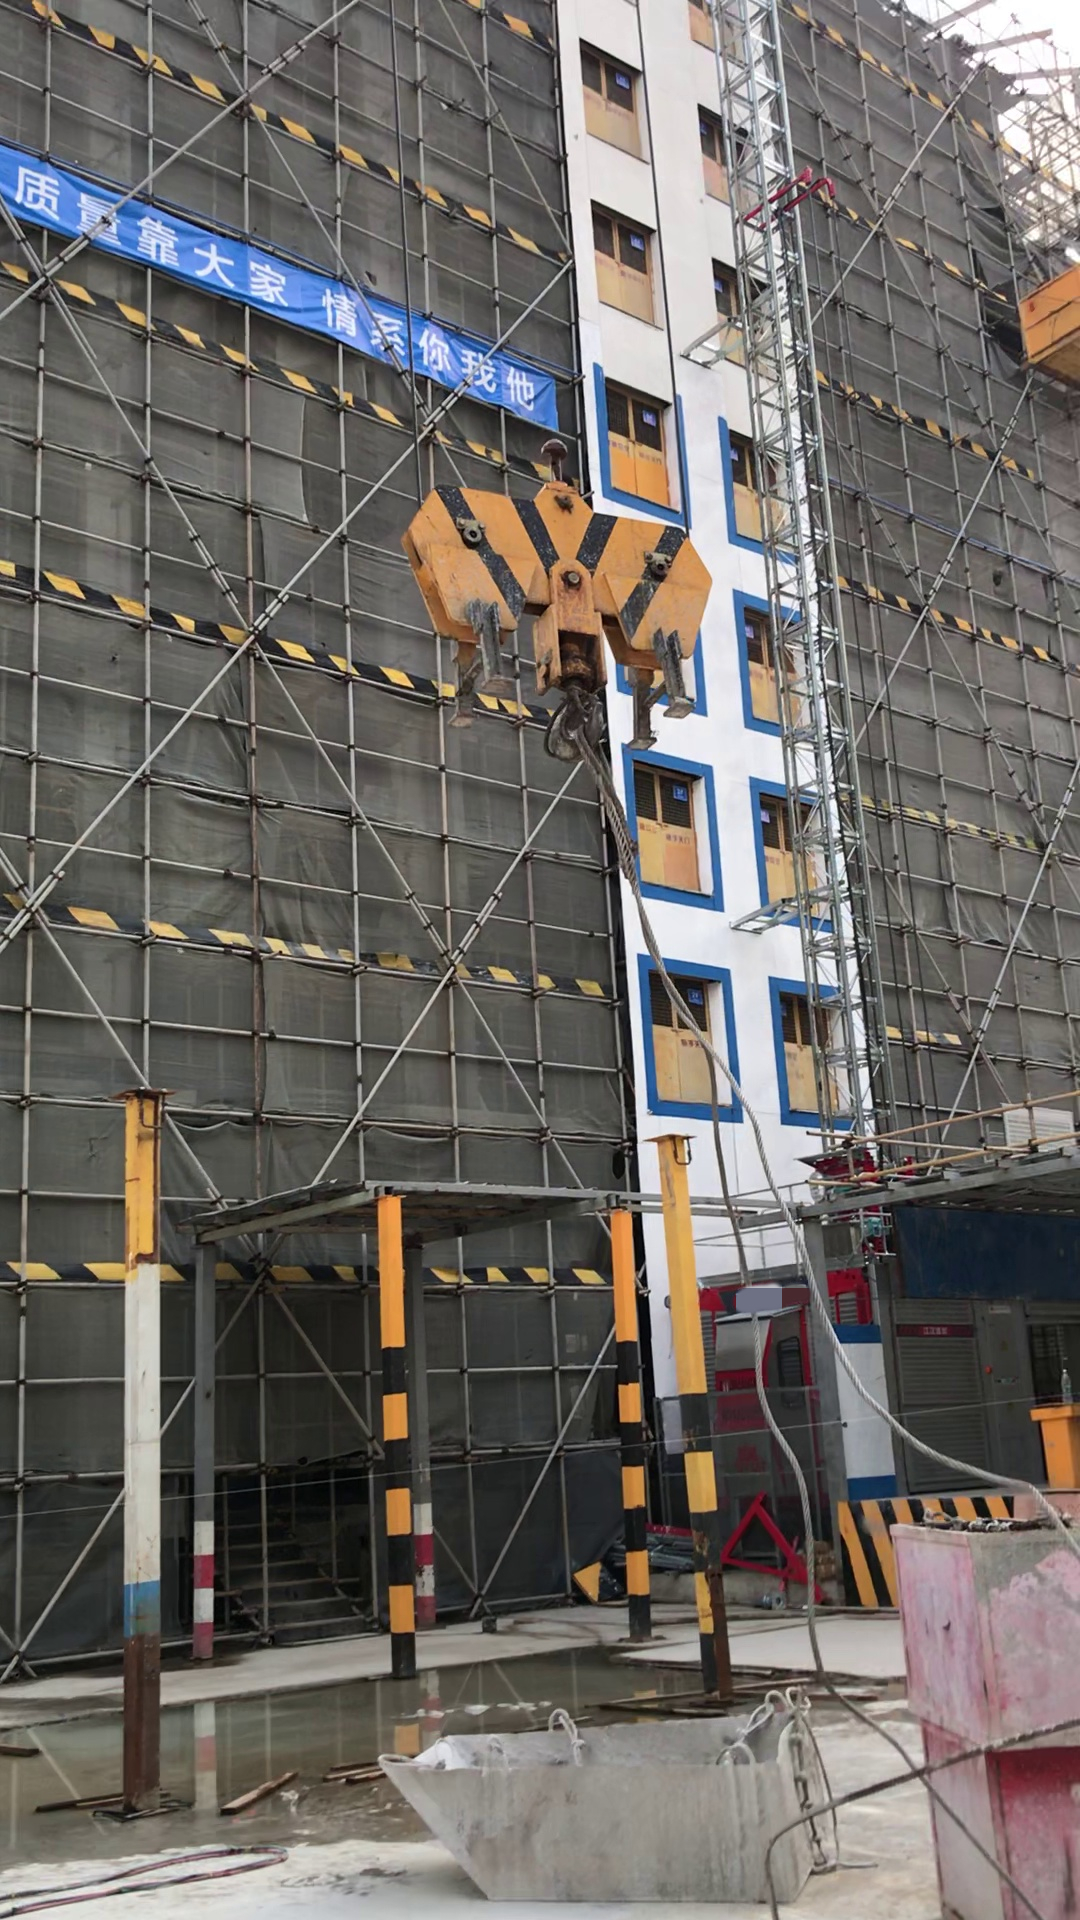ebox: (1035, 1396, 1080, 1490)
hook: (400, 425, 728, 713)
hopper: (386, 1698, 843, 1905)
slogan: (9, 145, 566, 429)
